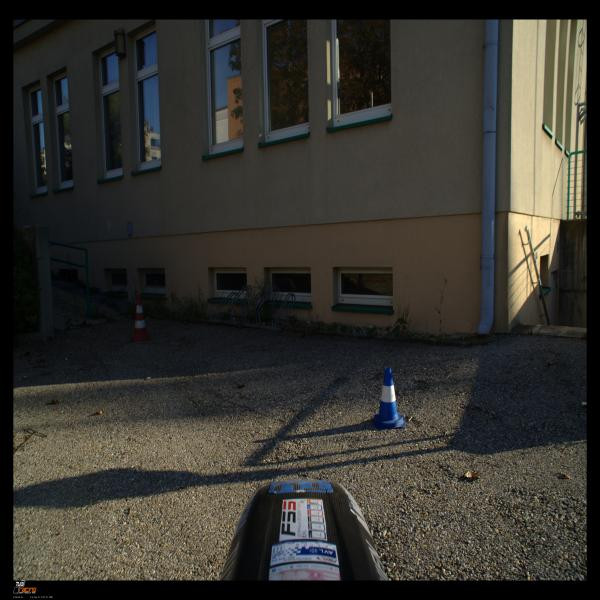blue_cone: (373, 367, 405, 429)
large_orange_cone: (130, 294, 151, 340)
